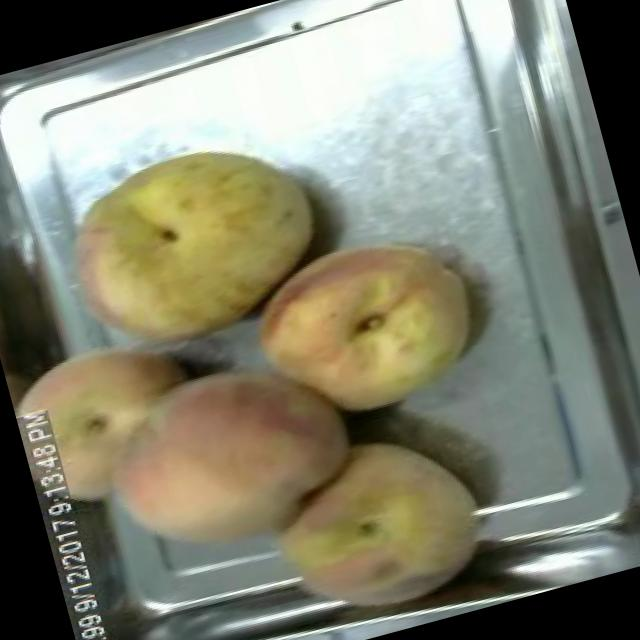Fruit: (34, 110, 352, 384), (69, 320, 387, 592), (227, 210, 500, 448), (239, 408, 509, 640)
